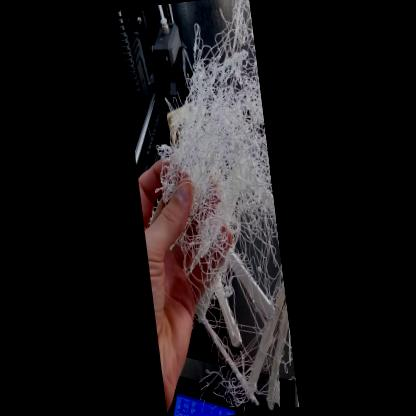fail: (163, 84, 280, 259), (214, 254, 298, 396)
